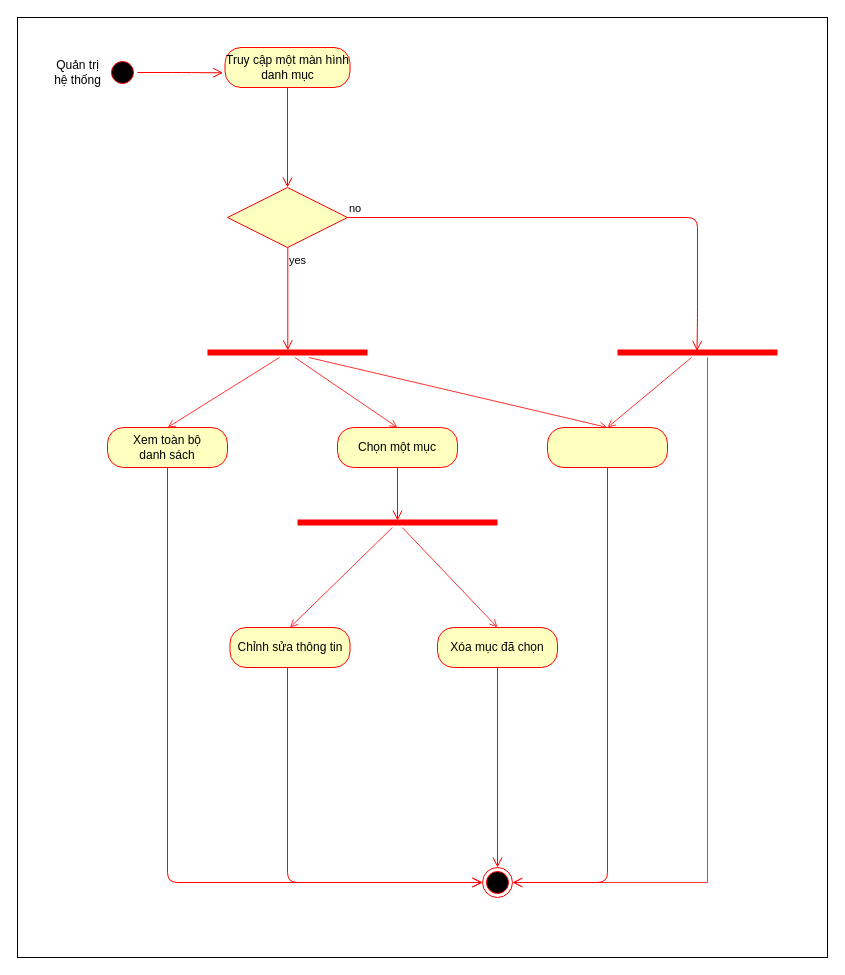
This 845x975 diagram has some shape labels left out. Here are the shapes that lost their labels. From the top down, the centre of each, then its label:
At pixel 287 217: "Tồn tại dữ liệu của danh mục".
At pixel 607 447: "Thêm một mục thông tin".
